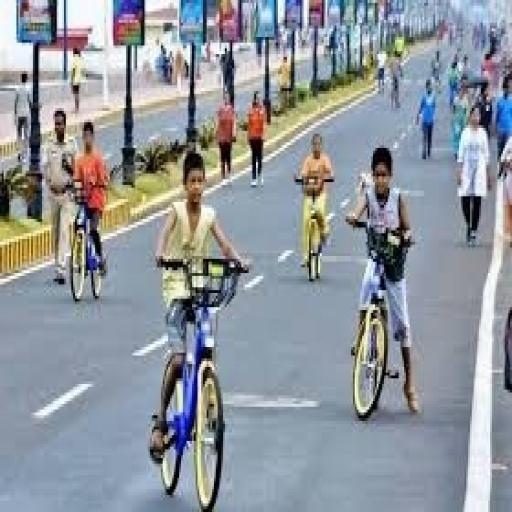cycling: (148, 148, 252, 461), (344, 142, 422, 421), (38, 106, 80, 288), (70, 116, 114, 282), (294, 128, 336, 284), (454, 100, 494, 250)
